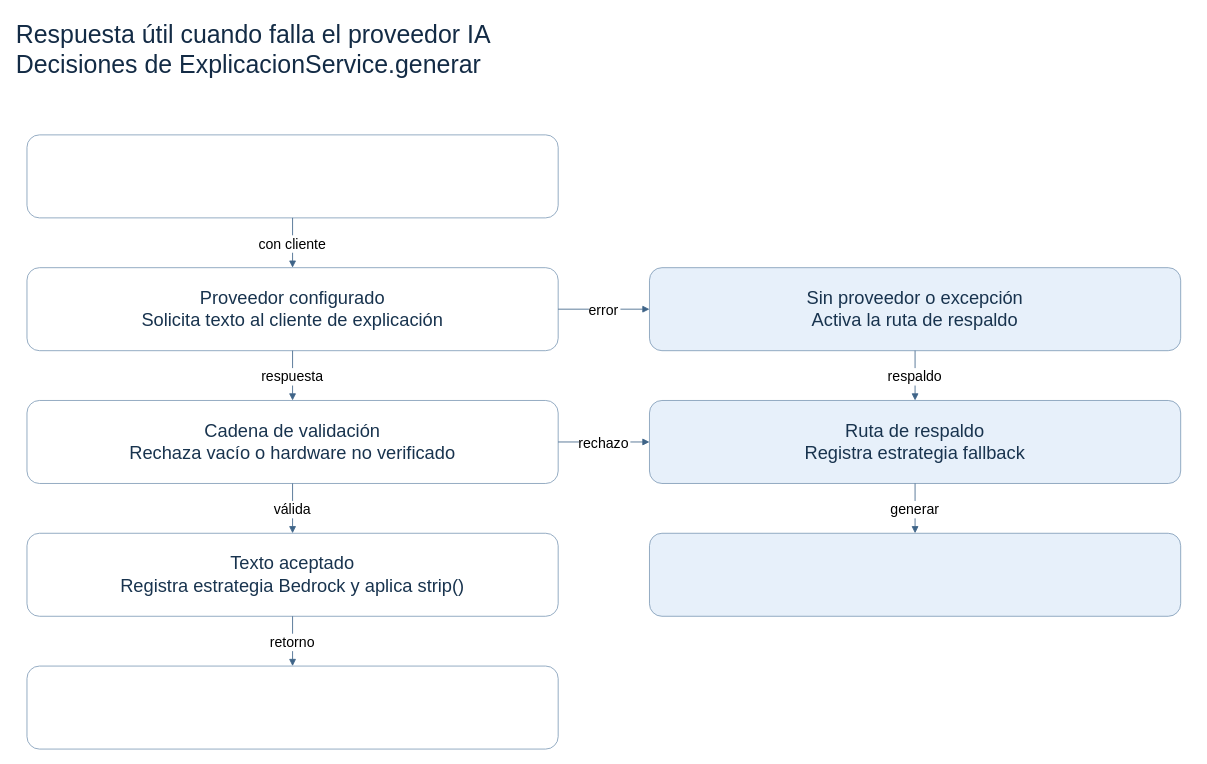
Image size: 1207x764. Some labels were removed from this diagram. The centre of each missing label's shape, as x and y in pixels:
"ContextoExplicacion Recibe datos ya calculados del análisis" goes at pixel 292 176.
"DeterministicExplicacionClient Redacta y devuelve texto desde el contexto" goes at pixel 915 574.
"Devuelve explicación Se incorpora a la respuesta del análisis" goes at pixel 292 707.
